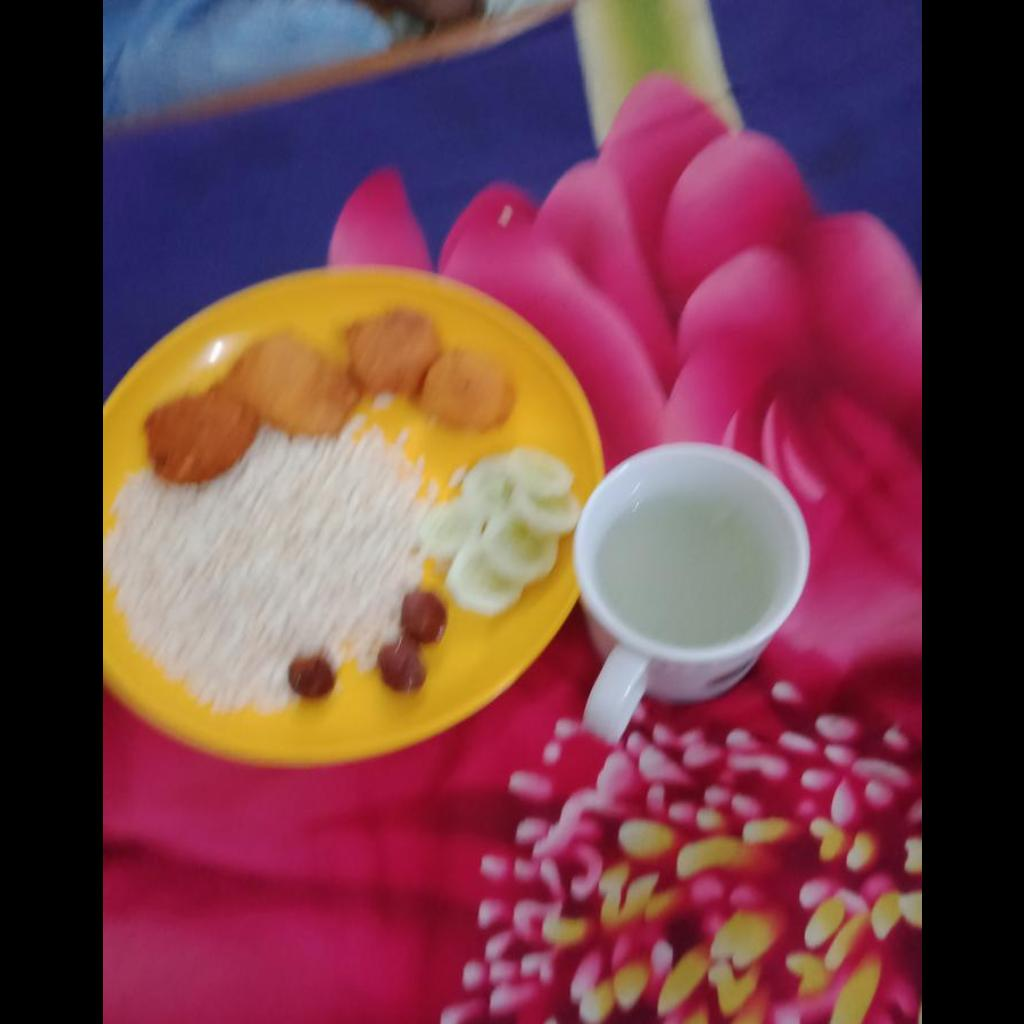chop-alu: (347, 308, 510, 430), (226, 332, 358, 436)
cucumber: (418, 448, 578, 613)
peyaju: (159, 389, 247, 483)
